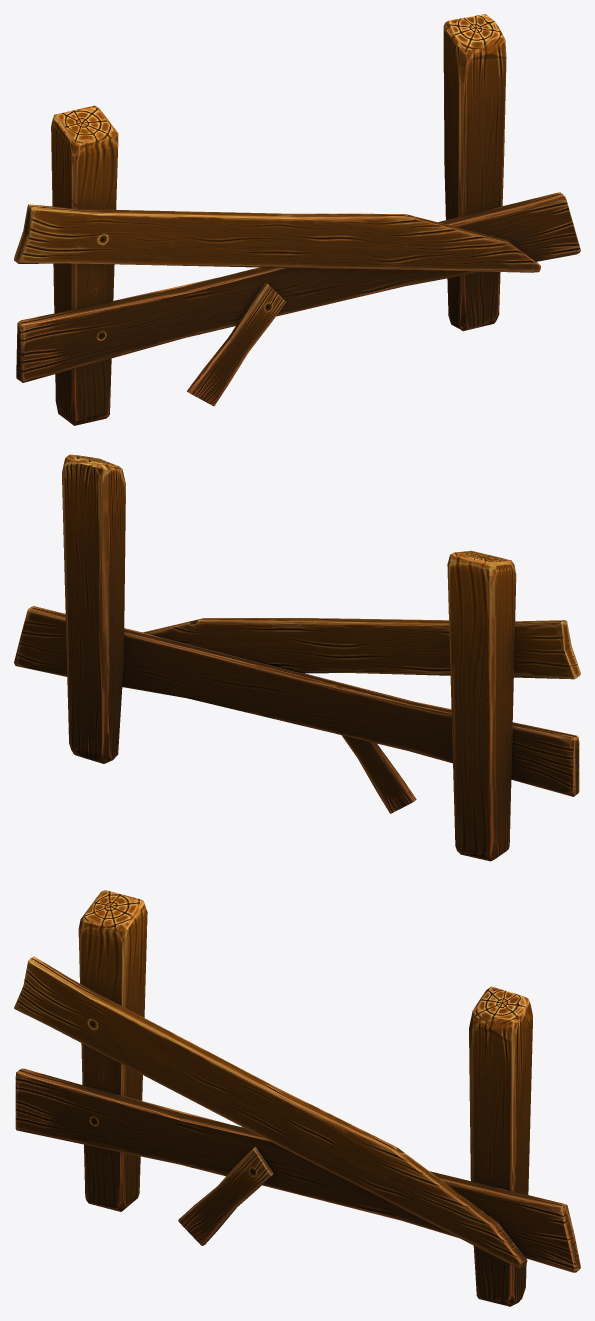
File: HOS0710005.FBX
3 views of the same model, one above another, from view 1: azimuth 30°, elevation 25°; view 2: azimuth 150°, elevation 25°; view 3: azimuth 330°, elevation 25° (orthographic).
Parts seen in each view (by area): view 1: smHOS0710005; view 2: smHOS0710005; view 3: smHOS0710005.
Part boxes in pixels (bbox=[...]): smHOS0710005: bbox=[14, 14, 580, 425]; smHOS0710005: bbox=[14, 454, 580, 861]; smHOS0710005: bbox=[14, 890, 580, 1306].
Bounding box in the file's own units: 195 × 101 × 22.75.
Materials: 1 (1 with a texture image).
